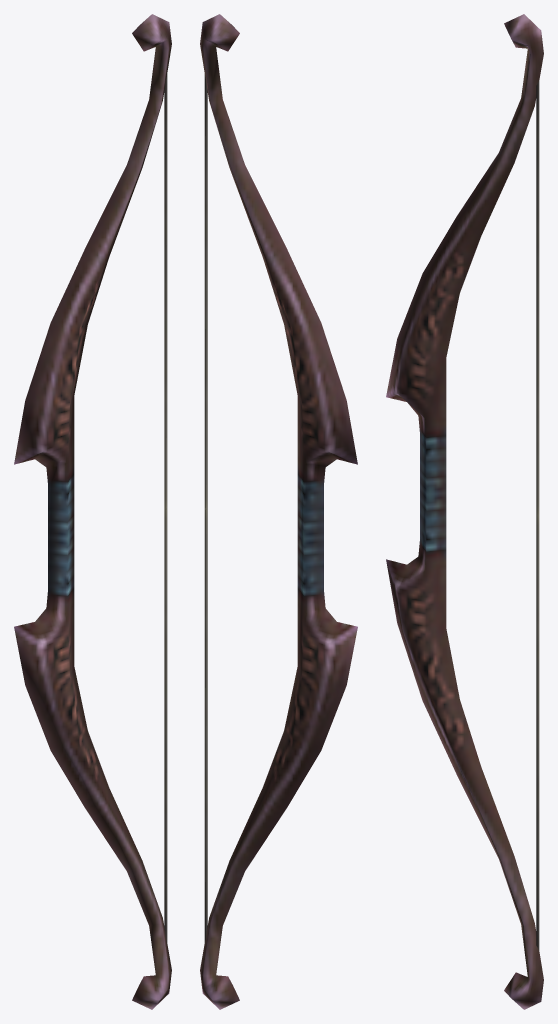
Rendered from Bow04.FBX.
3 renders of one model, left to right at view 1: azimuth 30°, elevation 25°; view 2: azimuth 150°, elevation 25°; view 3: azimuth 330°, elevation 25°, orthographic.
Visible parts, largest first — view 1: Bow04; view 2: Bow04; view 3: Bow04.
Boxes of the visible parts, x1,y1,x2,y2 form: Bow04: (14,14,171,1009); Bow04: (200,14,357,1009); Bow04: (386,14,543,1009).
Size of the model in its own units: 17.24 by 104 by 3.89.
